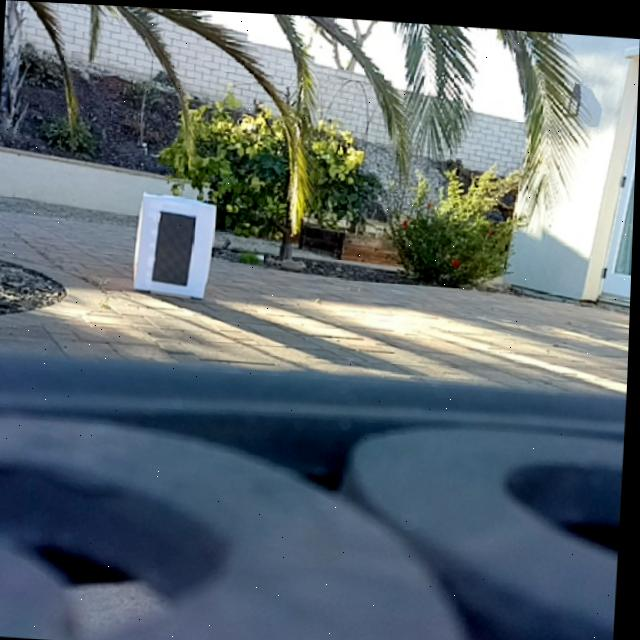led: (156, 208, 199, 287)
